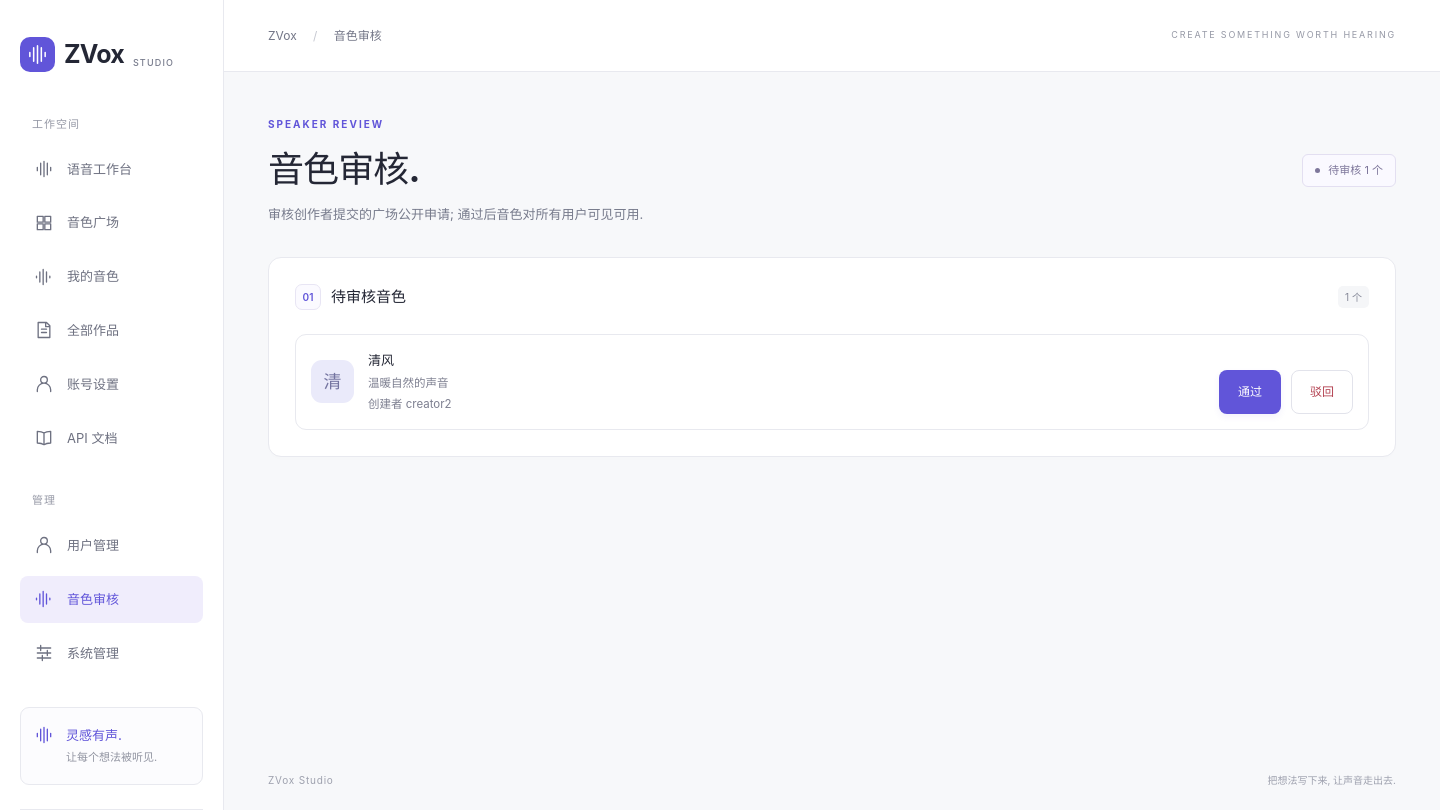
Test: application flows › approves and rejects plaza submissions with a comment as an administrator
The width and height of the screenshot is (1440, 810).
Expected: the text "创建者 creator2" is shown, [368,397,452,411]
Click the button "驳回": (1322, 392) [1291,370,1353,414]
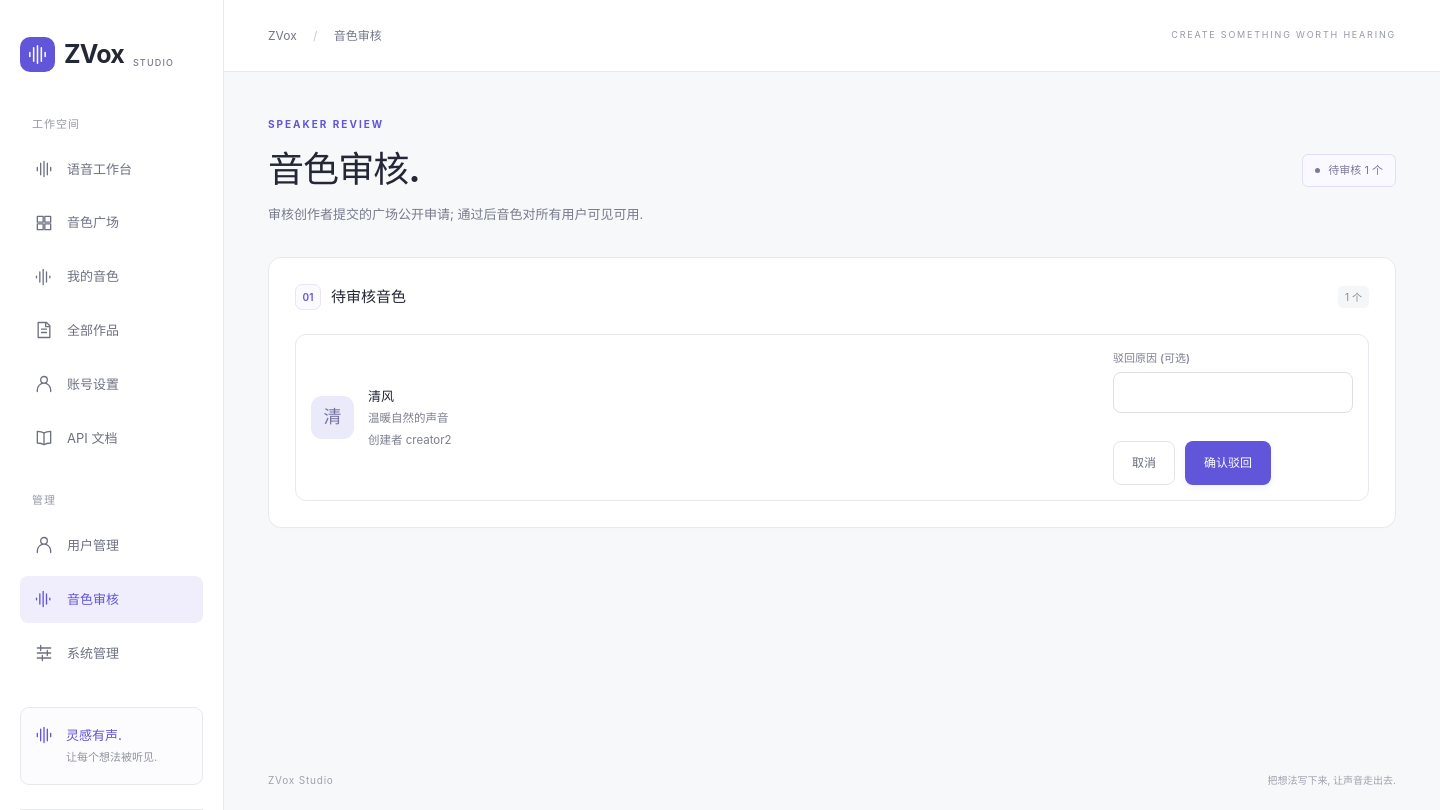
In the field labelled "驳回原因 (可选)": (1233, 393) [1113,372,1353,413], type "音质不足"
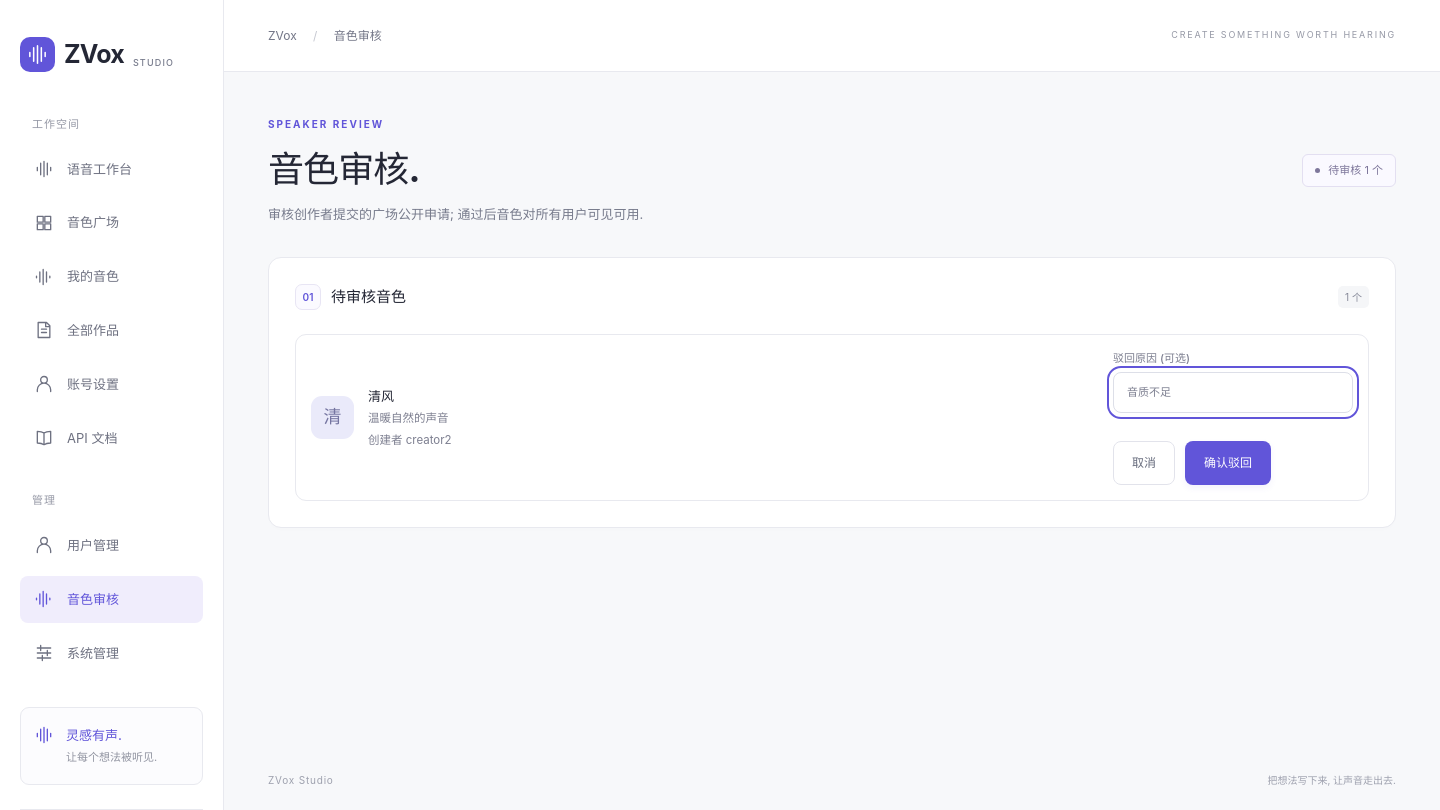
Click the button "确认驳回": (1228, 463) [1185,441,1271,485]
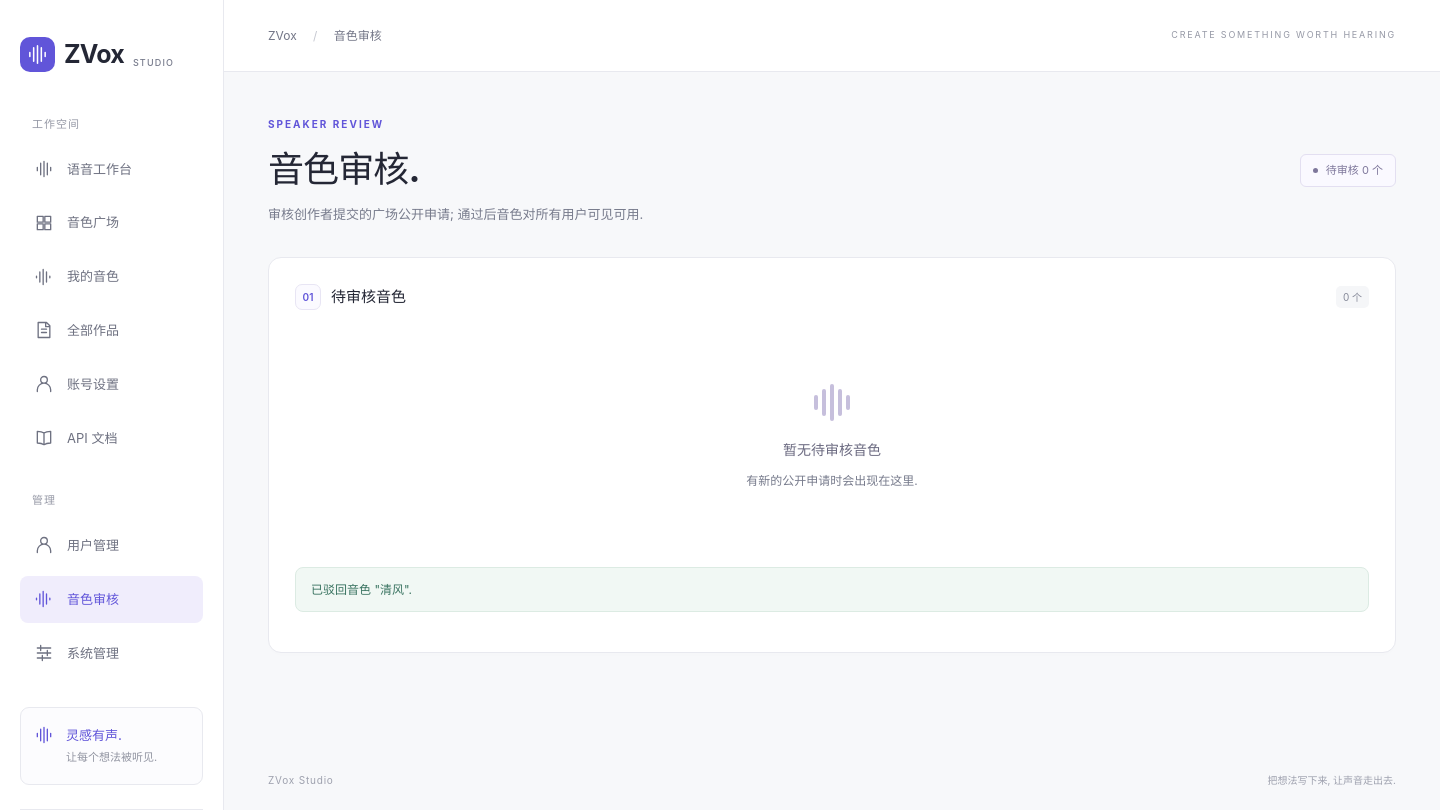
Expected: the text "已驳回音色 \"清风\"." is shown, [295,567,1369,612]
Expected: the heading "暂无待审核音色" is shown, [783,441,881,458]
